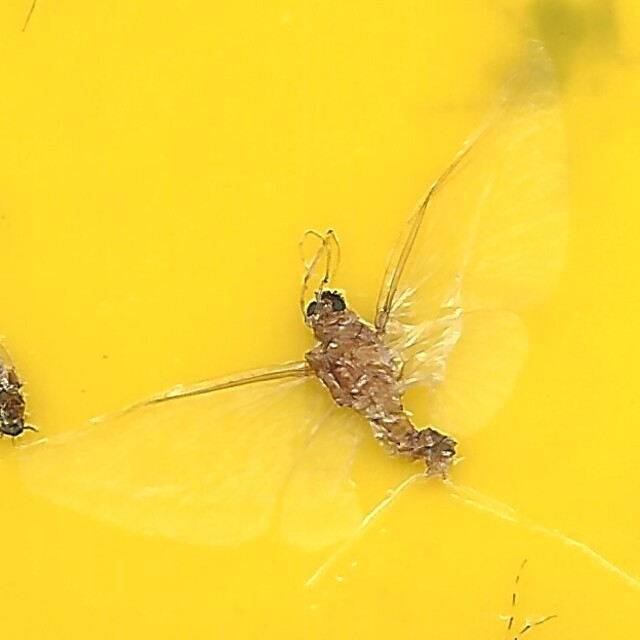Ephemeroptera: (103, 103, 537, 537)
